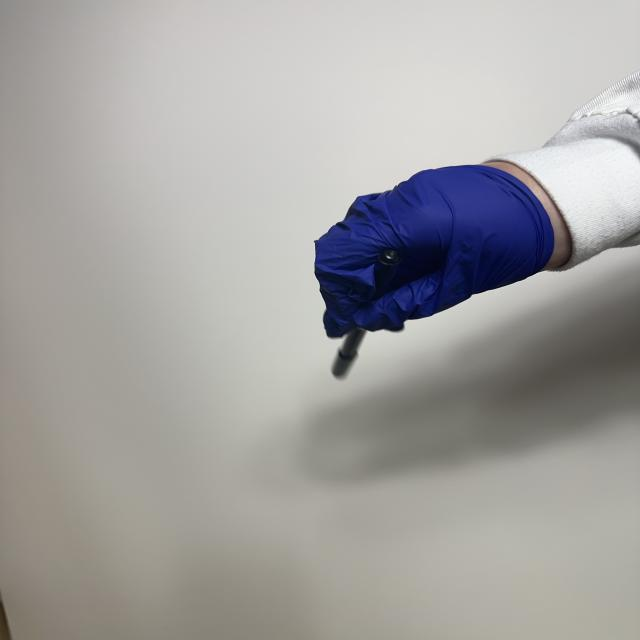glove_partial: (314, 163, 582, 337)
